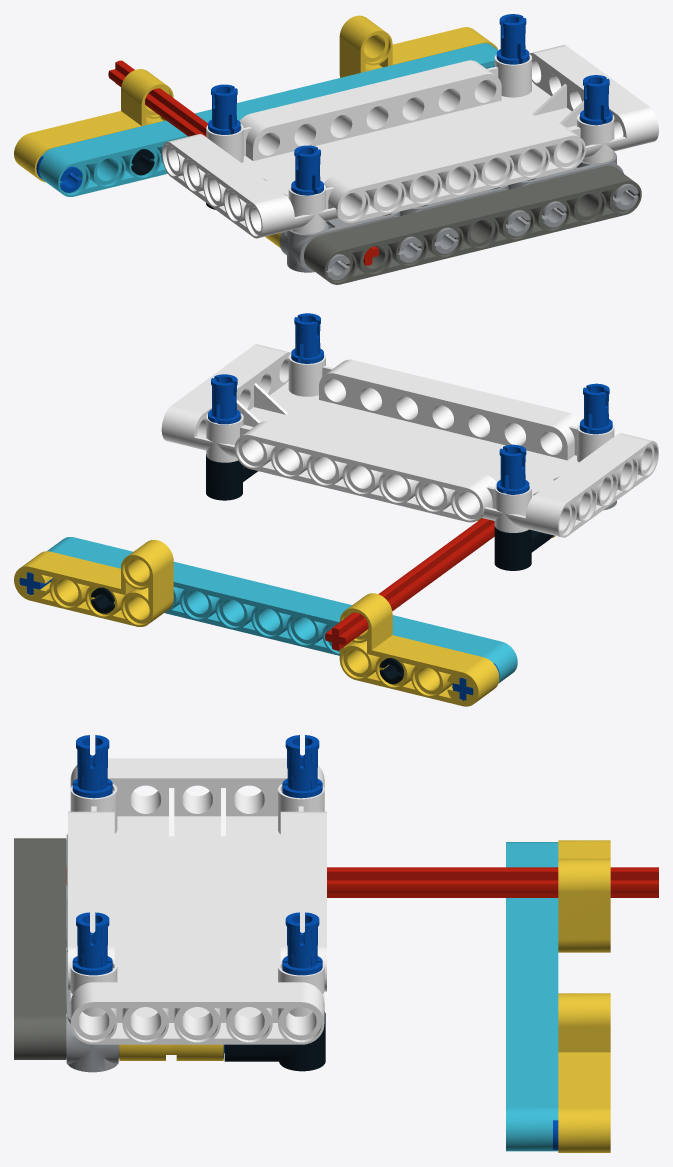
Rendered from Passive Connector.dae.
3 renders of one model, top to bottom at view 1: azimuth 30°, elevation 25°; view 2: azimuth 150°, elevation 25°; view 3: azimuth 270°, elevation 25°, orthographic. The views are drawn at different scales.
Parts seen in each view (by area): view 1: Inner-Node-UntitledModel_dot_io-0, Inner-Node-UntitledModel_dot_io-9, Inner-Node-UntitledModel_dot_io-20, Inner-Node-UntitledModel_dot_io-23, Inner-Node-UntitledModel_dot_io-24, Inner-Node-UntitledModel_dot_io-5, Inner-Node-UntitledModel_dot_io-27, Inner-Node-UntitledModel_dot_io-6, Inner-Node-UntitledModel_dot_io-10, Inner-Node-UntitledModel_dot_io-2, Inner-Node-UntitledModel_dot_io-1, Inner-Node-UntitledModel_dot_io-3 (+3 smaller); view 2: Inner-Node-UntitledModel_dot_io-0, Inner-Node-UntitledModel_dot_io-20, Inner-Node-UntitledModel_dot_io-24, Inner-Node-UntitledModel_dot_io-23, Inner-Node-UntitledModel_dot_io-27, Inner-Node-UntitledModel_dot_io-18, Inner-Node-UntitledModel_dot_io-19, Inner-Node-UntitledModel_dot_io-1, Inner-Node-UntitledModel_dot_io-4, Inner-Node-UntitledModel_dot_io-3, Inner-Node-UntitledModel_dot_io-2; view 3: Inner-Node-UntitledModel_dot_io-0, Inner-Node-UntitledModel_dot_io-20, Inner-Node-UntitledModel_dot_io-9, Inner-Node-UntitledModel_dot_io-27, Inner-Node-UntitledModel_dot_io-24, Inner-Node-UntitledModel_dot_io-23, Inner-Node-UntitledModel_dot_io-19, Inner-Node-UntitledModel_dot_io-1, Inner-Node-UntitledModel_dot_io-2, Inner-Node-UntitledModel_dot_io-4, Inner-Node-UntitledModel_dot_io-3, Inner-Node-UntitledModel_dot_io-6 (+1 smaller).
Boxes of the visible parts, x1,y1,x2,y2 form: Inner-Node-UntitledModel_dot_io-0: (161, 45, 658, 238); Inner-Node-UntitledModel_dot_io-9: (304, 165, 641, 284); Inner-Node-UntitledModel_dot_io-20: (39, 43, 498, 196); Inner-Node-UntitledModel_dot_io-23: (14, 69, 173, 182); Inner-Node-UntitledModel_dot_io-24: (339, 15, 498, 77); Inner-Node-UntitledModel_dot_io-5: (279, 211, 421, 280); Inner-Node-UntitledModel_dot_io-27: (108, 60, 379, 265); Inner-Node-UntitledModel_dot_io-6: (508, 152, 638, 227); Inner-Node-UntitledModel_dot_io-10: (400, 185, 530, 253); Inner-Node-UntitledModel_dot_io-2: (496, 14, 529, 64); Inner-Node-UntitledModel_dot_io-1: (208, 84, 240, 134); Inner-Node-UntitledModel_dot_io-3: (291, 145, 323, 195); Inner-Node-UntitledModel_dot_io-0: (161, 344, 658, 537); Inner-Node-UntitledModel_dot_io-20: (47, 537, 517, 682); Inner-Node-UntitledModel_dot_io-24: (14, 540, 173, 626); Inner-Node-UntitledModel_dot_io-23: (339, 593, 499, 706); Inner-Node-UntitledModel_dot_io-27: (325, 518, 494, 650); Inner-Node-UntitledModel_dot_io-18: (494, 526, 553, 570); Inner-Node-UntitledModel_dot_io-19: (206, 454, 257, 500); Inner-Node-UntitledModel_dot_io-1: (496, 444, 529, 494); Inner-Node-UntitledModel_dot_io-4: (291, 313, 323, 363); Inner-Node-UntitledModel_dot_io-3: (580, 383, 612, 434); Inner-Node-UntitledModel_dot_io-2: (208, 374, 240, 424); Inner-Node-UntitledModel_dot_io-0: (68, 758, 326, 1044); Inner-Node-UntitledModel_dot_io-20: (506, 842, 558, 1151); Inner-Node-UntitledModel_dot_io-9: (14, 838, 66, 1059); Inner-Node-UntitledModel_dot_io-27: (66, 867, 658, 897); Inner-Node-UntitledModel_dot_io-24: (558, 993, 610, 1152); Inner-Node-UntitledModel_dot_io-23: (558, 840, 610, 952); Inner-Node-UntitledModel_dot_io-19: (224, 1012, 325, 1071); Inner-Node-UntitledModel_dot_io-1: (282, 735, 322, 798); Inner-Node-UntitledModel_dot_io-2: (282, 912, 322, 975); Inner-Node-UntitledModel_dot_io-4: (72, 912, 112, 975); Inner-Node-UntitledModel_dot_io-3: (72, 735, 112, 798); Inner-Node-UntitledModel_dot_io-6: (66, 967, 119, 1072).
Size of the model in its own units: 258 by 78.75 by 246.
